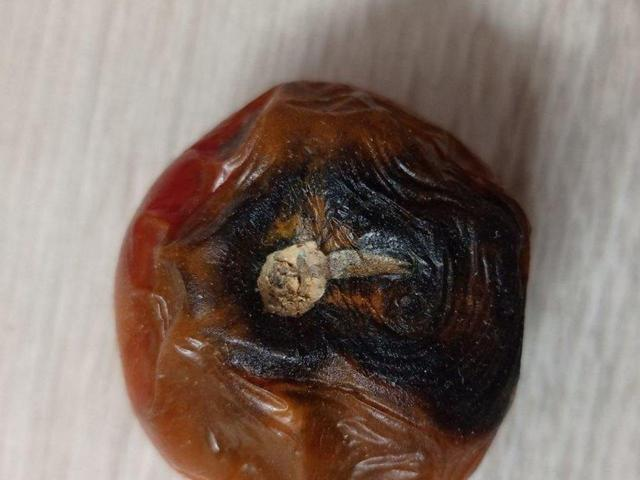defect: (106, 75, 537, 480)
